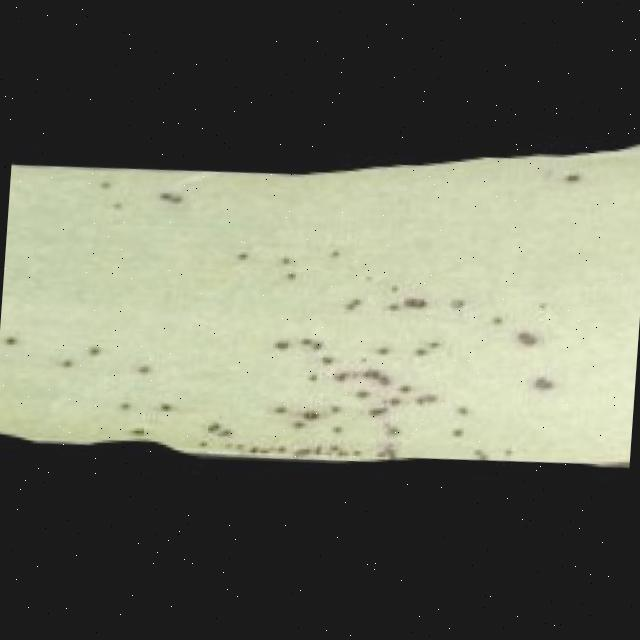mite: (0, 313, 28, 365), (559, 174, 586, 196), (404, 299, 431, 318), (158, 194, 185, 210), (0, 334, 24, 352), (517, 337, 541, 353), (448, 301, 469, 317), (564, 177, 583, 191), (2, 336, 21, 350), (86, 347, 105, 361), (233, 253, 252, 267), (60, 359, 76, 373)
